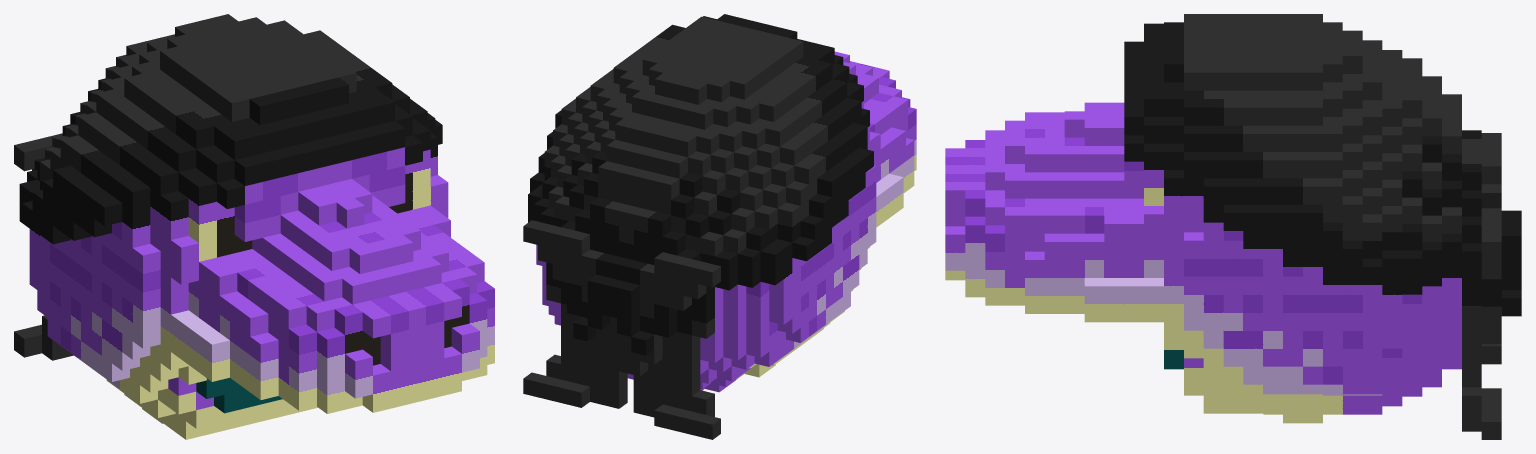
File: black durag_3d glasses.gltf
3 renders of one model, left to right at view 1: azimuth 30°, elevation 25°; view 2: azimuth 150°, elevation 25°; view 3: azimuth 270°, elevation 25°, orthographic. The views are drawn at different scales.
Parts seen in each view (by area): view 1: C19_H_blacDurag_CoolDude-Mesh; view 2: C19_H_blacDurag_CoolDude-Mesh; view 3: C19_H_blacDurag_CoolDude-Mesh.
Boxes of the visible parts, x1,y1,x2,y2 form: C19_H_blacDurag_CoolDude-Mesh: [14, 14, 494, 439]; C19_H_blacDurag_CoolDude-Mesh: [523, 14, 916, 439]; C19_H_blacDurag_CoolDude-Mesh: [945, 14, 1521, 439].
Bounding box in the file's own units: 19 × 19 × 29.
Materials: 1 (1 with a texture image).
